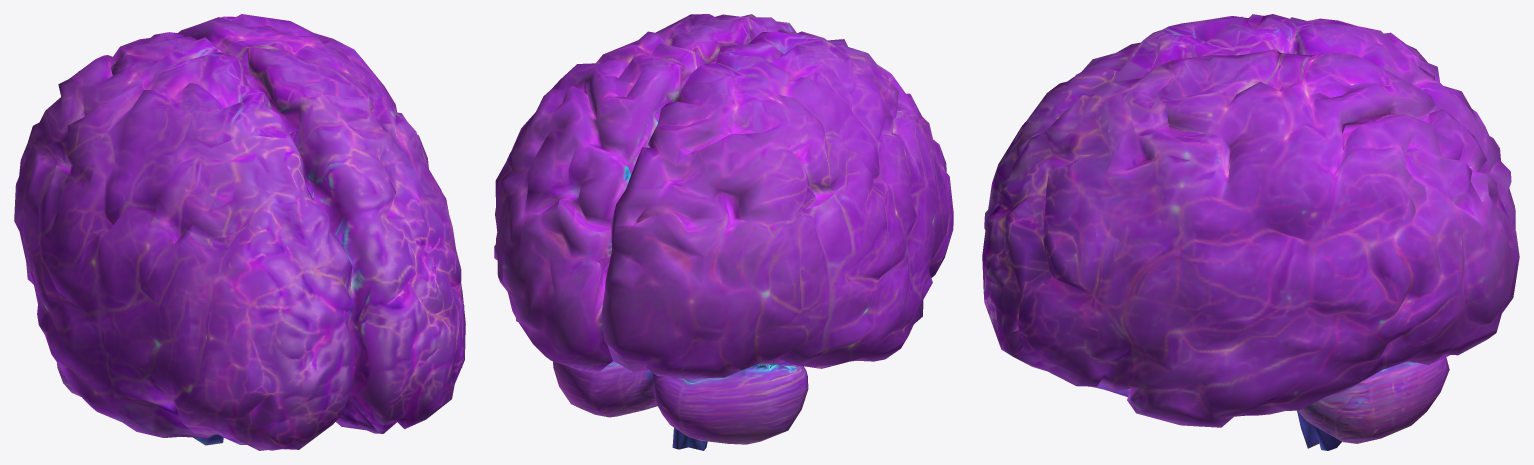
The model's file is mentoraBrain.glb.
The picture shows the model from 3 angles, left to right: view 1: azimuth 30°, elevation 25°; view 2: azimuth 150°, elevation 25°; view 3: azimuth 270°, elevation 25°; orthographic projection. The views are drawn at different scales.
Size of the model in its own units: 1.59 by 1.66 by 1.99.
1 material, 1 textured.
